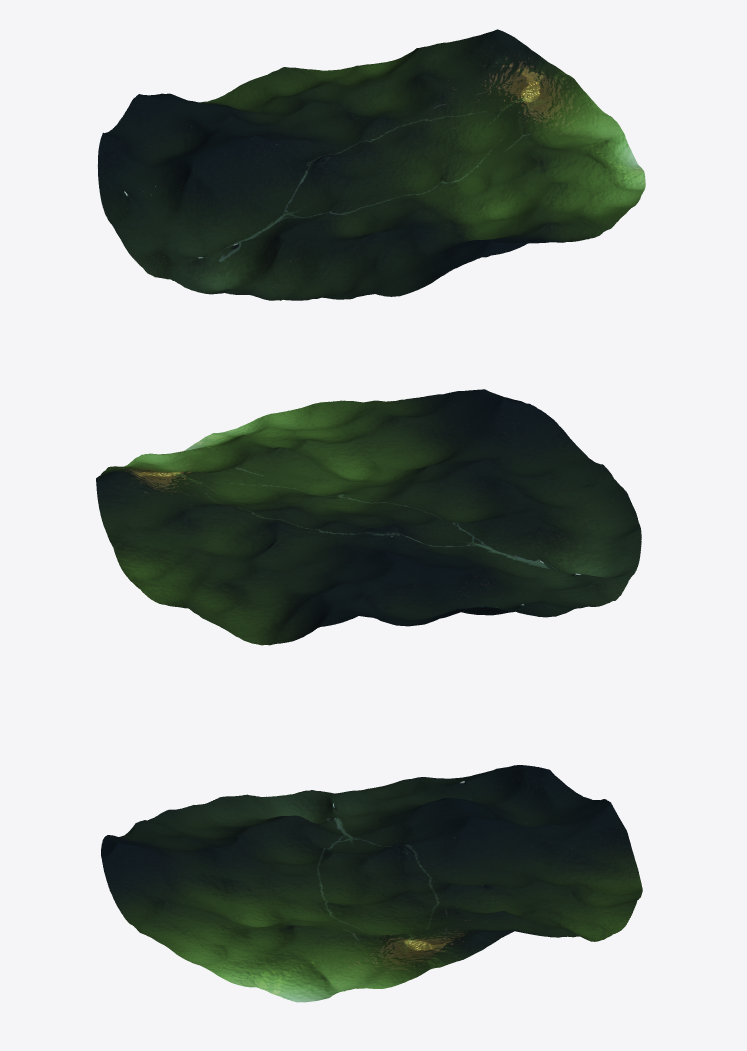
File: water.obj
The picture shows the model from 3 angles, top to bottom: view 1: azimuth 30°, elevation 25°; view 2: azimuth 150°, elevation 25°; view 3: azimuth 270°, elevation 25°; orthographic projection.
Parts seen in each view (by area): view 1: Water_Water_0; view 2: Water_Water_0; view 3: Water_Water_0.
Part boxes in pixels (<box>): Water_Water_0: <box>97,29,645,300</box>; Water_Water_0: <box>96,389,641,645</box>; Water_Water_0: <box>101,765,642,1002</box>.
Bounding box in the file's own units: 863 × 109 × 864.
Materials: 1 (1 with a texture image).
